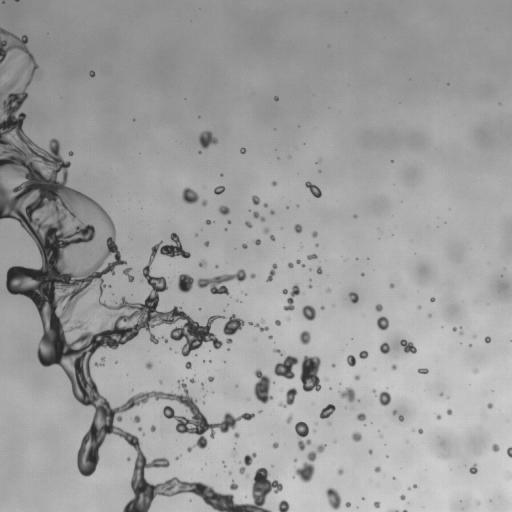droplet: (254, 368, 275, 403), (337, 386, 360, 403), (198, 130, 218, 149), (176, 272, 194, 293), (325, 487, 341, 510), (319, 404, 335, 426), (181, 187, 199, 204), (302, 304, 316, 321), (400, 339, 417, 353), (376, 316, 389, 331), (122, 267, 134, 283), (299, 330, 311, 345), (379, 342, 390, 354), (346, 354, 356, 367), (94, 356, 105, 367), (351, 431, 362, 442), (278, 500, 289, 511), (196, 122, 207, 133), (39, 140, 50, 151), (196, 188, 207, 199), (202, 188, 213, 199), (216, 194, 227, 205), (264, 216, 275, 227), (7, 217, 18, 228), (232, 218, 243, 229), (250, 227, 261, 238), (31, 258, 42, 269), (132, 267, 143, 278), (203, 268, 214, 279), (189, 269, 200, 280), (167, 278, 178, 289), (141, 284, 152, 295), (20, 295, 31, 306), (293, 295, 304, 306), (156, 301, 167, 312), (300, 319, 311, 330), (160, 323, 171, 334), (210, 323, 221, 334), (152, 324, 163, 335), (377, 330, 388, 341), (201, 339, 212, 350), (390, 342, 401, 353), (95, 345, 106, 356), (368, 345, 379, 356), (291, 363, 302, 374), (263, 366, 274, 377), (89, 368, 100, 379), (290, 376, 301, 387), (281, 377, 292, 388), (188, 388, 199, 399), (333, 396, 344, 407), (175, 404, 186, 415), (212, 412, 223, 423), (139, 417, 150, 428), (235, 419, 246, 430), (352, 420, 363, 431), (126, 423, 137, 434), (103, 432, 114, 443), (296, 454, 307, 465), (369, 454, 380, 465), (246, 463, 257, 474), (123, 466, 134, 477), (159, 468, 170, 479), (144, 472, 155, 483), (217, 484, 228, 495), (264, 492, 275, 503), (152, 494, 163, 505), (232, 494, 243, 505), (319, 494, 330, 505), (218, 205, 230, 215), (348, 292, 358, 303), (358, 349, 368, 360), (213, 186, 225, 195), (229, 479, 238, 490), (469, 462, 477, 474), (251, 195, 260, 205), (356, 412, 366, 421), (491, 443, 500, 452), (59, 151, 68, 160), (260, 234, 269, 243), (309, 258, 318, 267), (101, 292, 110, 301), (277, 310, 286, 319), (175, 318, 184, 327), (268, 324, 277, 333), (217, 332, 226, 341), (461, 334, 470, 343), (265, 340, 274, 349), (184, 368, 193, 377), (315, 368, 324, 377), (267, 371, 276, 380), (349, 380, 358, 389), (278, 392, 287, 401), (85, 404, 94, 413), (130, 405, 139, 414), (199, 406, 208, 415), (183, 409, 192, 418), (498, 444, 507, 453), (96, 447, 105, 456), (128, 448, 137, 457), (311, 459, 320, 468), (310, 471, 319, 480), (191, 474, 200, 483), (200, 476, 209, 485), (126, 490, 135, 499), (193, 494, 202, 503), (245, 496, 254, 505), (396, 500, 405, 509), (306, 253, 317, 260), (417, 368, 428, 375), (294, 224, 302, 233), (198, 259, 207, 267), (285, 413, 292, 423), (204, 505, 215, 511), (336, 505, 347, 511), (244, 220, 252, 228), (145, 361, 153, 369), (132, 415, 140, 423), (252, 238, 261, 245), (504, 471, 511, 480), (205, 219, 215, 225), (262, 227, 270, 234), (375, 304, 383, 311), (0, 76, 5, 87), (0, 273, 5, 284), (484, 336, 491, 343), (486, 402, 493, 409), (373, 501, 380, 508), (5, 50, 12, 57), (19, 51, 26, 58), (21, 120, 28, 127), (195, 142, 202, 149), (207, 142, 214, 149), (64, 180, 71, 187), (189, 183, 196, 190), (176, 190, 183, 197), (197, 193, 204, 200), (193, 200, 200, 207), (223, 200, 230, 207), (183, 201, 190, 208), (252, 204, 259, 211), (222, 213, 229, 220), (248, 216, 255, 223), (262, 220, 269, 227), (114, 239, 121, 246), (247, 241, 254, 248), (181, 244, 188, 251), (163, 254, 170, 261), (175, 254, 182, 261), (300, 256, 307, 263), (304, 259, 311, 266), (114, 264, 121, 271), (230, 267, 237, 274), (148, 269, 155, 276), (214, 269, 221, 276), (243, 276, 250, 283), (223, 280, 230, 287), (190, 281, 197, 288), (179, 290, 186, 297), (292, 294, 299, 301), (344, 295, 351, 302), (126, 296, 133, 303), (312, 303, 319, 310), (155, 304, 162, 311), (183, 307, 190, 314), (314, 308, 321, 315), (375, 310, 382, 317), (224, 311, 231, 318), (199, 319, 206, 326), (268, 321, 275, 328), (138, 327, 145, 334), (294, 329, 301, 336), (308, 330, 315, 337), (293, 334, 300, 341), (179, 337, 186, 344), (308, 337, 315, 344), (221, 341, 228, 348), (306, 350, 313, 357), (277, 356, 284, 363), (296, 356, 303, 363), (33, 358, 40, 365), (51, 362, 58, 369), (278, 375, 285, 382), (252, 376, 259, 383), (204, 381, 211, 388), (186, 382, 193, 389), (154, 384, 161, 391), (339, 384, 346, 391), (96, 385, 103, 392), (144, 385, 151, 392), (162, 386, 169, 393), (132, 388, 139, 395), (177, 388, 184, 395), (266, 388, 273, 395), (353, 391, 360, 398), (249, 392, 256, 399), (147, 396, 154, 403), (341, 396, 348, 403), (255, 399, 262, 406), (195, 400, 202, 407), (109, 401, 116, 408), (386, 402, 393, 409), (231, 411, 238, 418), (440, 411, 447, 418), (170, 418, 177, 425), (290, 418, 297, 425), (112, 419, 119, 426), (83, 424, 90, 431), (143, 425, 150, 432), (213, 426, 220, 433), (202, 430, 209, 437), (192, 433, 199, 440), (119, 437, 126, 444), (138, 442, 145, 449), (193, 445, 200, 452), (304, 445, 311, 452), (315, 452, 322, 459), (167, 456, 174, 463), (296, 461, 303, 468), (94, 463, 101, 470), (91, 470, 98, 477), (266, 474, 273, 481), (294, 474, 301, 481), (247, 477, 254, 484), (302, 480, 309, 487), (331, 483, 338, 490), (404, 490, 411, 497), (119, 500, 126, 507), (338, 500, 345, 507), (316, 266, 322, 274), (185, 361, 191, 369), (200, 382, 206, 390), (150, 424, 156, 432), (272, 441, 278, 449), (270, 506, 279, 511), (89, 70, 95, 77), (240, 147, 246, 154), (67, 150, 73, 157), (201, 199, 207, 206), (269, 234, 275, 241), (353, 374, 360, 380), (446, 408, 452, 415), (374, 466, 381, 472), (337, 468, 343, 475), (287, 262, 293, 268), (325, 287, 331, 293), (275, 319, 281, 325), (226, 338, 232, 344), (391, 364, 397, 370), (435, 414, 441, 420), (233, 432, 239, 438), (312, 230, 317, 237), (207, 376, 214, 381), (271, 181, 277, 186), (242, 243, 247, 249), (249, 273, 255, 278), (418, 428, 423, 434), (400, 494, 405, 500), (345, 501, 350, 507), (146, 507, 153, 511), (328, 507, 335, 511), (372, 507, 379, 511), (263, 202, 268, 207), (204, 241, 209, 246), (389, 283, 394, 288), (430, 297, 435, 302), (427, 313, 432, 318), (285, 316, 290, 321), (452, 326, 457, 331), (473, 368, 478, 373), (3, 25, 8, 30), (24, 42, 29, 47), (28, 48, 33, 53), (32, 53, 37, 58), (35, 59, 40, 64), (206, 126, 211, 131), (211, 132, 216, 137), (315, 163, 320, 168), (66, 166, 71, 171), (310, 179, 315, 184), (266, 180, 271, 185), (215, 181, 220, 186), (271, 185, 276, 190), (318, 185, 323, 190), (209, 186, 214, 191), (304, 186, 309, 191), (79, 188, 84, 193), (320, 189, 325, 194), (86, 192, 91, 197), (308, 193, 313, 198), (91, 195, 96, 200), (316, 196, 321, 201), (248, 200, 253, 205), (258, 200, 263, 205), (205, 202, 210, 207), (102, 205, 107, 210), (228, 206, 233, 211), (265, 206, 270, 211), (108, 212, 113, 217), (1, 217, 6, 222), (296, 219, 301, 224), (113, 222, 118, 227), (225, 223, 230, 228), (243, 225, 248, 230), (300, 226, 305, 231), (195, 228, 200, 233), (290, 228, 295, 233), (268, 229, 273, 234), (316, 232, 321, 237), (273, 233, 278, 238), (312, 237, 317, 242), (150, 241, 155, 246), (171, 241, 176, 246), (116, 245, 121, 250), (147, 248, 152, 253), (308, 249, 313, 254), (119, 255, 124, 260), (310, 257, 315, 262), (291, 259, 296, 264), (283, 260, 288, 265), (142, 261, 147, 266), (238, 264, 243, 269), (267, 265, 272, 270), (312, 265, 317, 270), (302, 266, 307, 271), (320, 266, 325, 271), (106, 270, 111, 275), (128, 270, 133, 275), (264, 271, 269, 276), (245, 272, 250, 277), (100, 273, 105, 278), (123, 274, 128, 279), (271, 274, 276, 279), (142, 277, 147, 282), (232, 277, 237, 282), (240, 279, 245, 284), (221, 280, 226, 285), (393, 283, 398, 288), (298, 286, 303, 291), (102, 287, 107, 292), (287, 287, 292, 292), (353, 288, 358, 293), (214, 292, 219, 297), (220, 292, 225, 297), (285, 292, 290, 297), (357, 296, 362, 301), (116, 298, 121, 303), (375, 299, 380, 304), (105, 300, 110, 305), (305, 300, 310, 305), (110, 301, 115, 306), (283, 301, 288, 306), (381, 303, 386, 308), (370, 305, 375, 310), (286, 309, 291, 314), (234, 313, 239, 318), (278, 316, 283, 321), (301, 316, 306, 321), (223, 317, 228, 322), (387, 320, 392, 325), (37, 321, 42, 326), (259, 322, 264, 327), (170, 323, 175, 328), (373, 323, 378, 328), (386, 325, 391, 330), (254, 326, 259, 331), (208, 327, 213, 332), (235, 328, 240, 333), (377, 328, 382, 333), (382, 328, 387, 333), (38, 331, 43, 336), (227, 333, 232, 338), (131, 336, 136, 341), (167, 337, 172, 342), (405, 337, 410, 342), (158, 338, 163, 343), (127, 339, 132, 344), (377, 340, 382, 345), (387, 341, 392, 346), (164, 342, 169, 347), (412, 342, 417, 347), (117, 343, 122, 348), (399, 345, 404, 350), (358, 346, 363, 351), (189, 349, 194, 354), (376, 349, 381, 354), (407, 351, 412, 356), (290, 352, 295, 357), (380, 352, 385, 357), (354, 355, 359, 360), (143, 358, 148, 363), (103, 359, 108, 364), (150, 359, 155, 364), (392, 359, 397, 364), (88, 361, 93, 366), (343, 361, 348, 366), (140, 362, 145, 367), (270, 363, 275, 368), (386, 363, 391, 368), (395, 363, 400, 368), (420, 363, 425, 368), (150, 365, 155, 370), (349, 365, 354, 370), (143, 367, 148, 372), (391, 369, 396, 374), (60, 370, 65, 375), (261, 370, 266, 375), (418, 372, 423, 377), (359, 375, 364, 380), (65, 378, 70, 383), (184, 379, 189, 384), (318, 379, 323, 384), (66, 381, 71, 386), (310, 388, 315, 393), (386, 388, 391, 393), (200, 389, 205, 394), (305, 390, 310, 395), (375, 390, 380, 395), (206, 391, 211, 396), (69, 393, 74, 398), (389, 393, 394, 398), (293, 394, 298, 399), (441, 394, 446, 399), (374, 396, 379, 401), (266, 398, 271, 403), (488, 398, 493, 403), (352, 399, 357, 404), (331, 400, 336, 405), (76, 401, 81, 406), (322, 402, 327, 407), (286, 403, 291, 408), (482, 403, 487, 408), (491, 404, 496, 409), (485, 407, 490, 412), (488, 407, 493, 412), (316, 408, 321, 413), (247, 409, 252, 414), (355, 409, 360, 414), (363, 410, 368, 415), (254, 412, 259, 417), (282, 414, 287, 419), (393, 414, 398, 419), (139, 416, 144, 421), (240, 417, 245, 422), (249, 417, 254, 422), (301, 417, 306, 422), (322, 417, 327, 422), (206, 418, 211, 423), (363, 418, 368, 423), (358, 419, 363, 424), (281, 420, 286, 425), (136, 421, 141, 426), (307, 425, 312, 430), (175, 431, 180, 436), (183, 431, 188, 436), (292, 431, 297, 436), (238, 432, 243, 437), (360, 432, 365, 437), (232, 436, 237, 441), (137, 437, 142, 442), (319, 439, 324, 444), (350, 439, 355, 444), (268, 440, 273, 445), (355, 440, 360, 445), (277, 442, 282, 447), (75, 443, 80, 448), (294, 444, 299, 449), (487, 444, 492, 449), (275, 446, 280, 451), (323, 446, 328, 451), (182, 448, 187, 453), (490, 450, 495, 455), (157, 453, 162, 458), (503, 453, 508, 458), (72, 455, 77, 460), (239, 456, 244, 461), (145, 458, 150, 463), (374, 461, 379, 466), (467, 462, 472, 467), (129, 463, 134, 468), (335, 464, 340, 469), (369, 465, 374, 470), (379, 465, 384, 470), (158, 466, 163, 471), (224, 466, 229, 471), (265, 466, 270, 471), (342, 467, 347, 472), (332, 469, 337, 474), (290, 470, 295, 475), (76, 471, 81, 476), (375, 471, 380, 476), (341, 472, 346, 477), (467, 472, 472, 477), (80, 474, 85, 479), (179, 476, 184, 481), (233, 479, 238, 484), (226, 480, 231, 485), (402, 490, 407, 495), (177, 492, 182, 497), (404, 495, 409, 500), (286, 499, 291, 504), (350, 502, 355, 507), (378, 502, 383, 507), (261, 503, 266, 508), (369, 503, 374, 508), (368, 449, 372, 455), (0, 144, 3, 151), (274, 96, 278, 101), (270, 210, 274, 215), (227, 219, 231, 224), (320, 305, 324, 310), (268, 334, 272, 339), (471, 334, 476, 338), (158, 379, 162, 384), (312, 428, 316, 433), (228, 470, 232, 475), (476, 500, 480, 505), (353, 214, 357, 218), (194, 233, 198, 237), (214, 264, 218, 268), (360, 272, 364, 276), (308, 284, 312, 288), (417, 305, 421, 309), (253, 337, 257, 341), (468, 343, 472, 347), (226, 347, 230, 351), (114, 360, 118, 364), (331, 363, 335, 367), (372, 367, 376, 371), (324, 377, 328, 381), (439, 392, 443, 396), (246, 397, 250, 401), (379, 434, 383, 438), (126, 457, 130, 461), (293, 458, 297, 462), (406, 501, 410, 505), (286, 508, 291, 511), (198, 150, 201, 154), (318, 169, 321, 173), (224, 227, 227, 231), (315, 243, 318, 247), (308, 268, 312, 271), (308, 278, 311, 282), (107, 284, 111, 287), (226, 303, 229, 307), (208, 360, 212, 363), (222, 360, 226, 363), (314, 422, 318, 425), (411, 428, 415, 431), (333, 439, 336, 443), (385, 454, 388, 458), (270, 464, 274, 467), (361, 497, 365, 500), (1, 0, 4, 3), (498, 102, 501, 105), (132, 118, 135, 121), (220, 173, 223, 176), (296, 204, 299, 207), (286, 206, 289, 209), (248, 209, 251, 212), (280, 226, 283, 229), (355, 257, 358, 260), (366, 257, 369, 260), (500, 274, 503, 277), (198, 307, 201, 310), (350, 337, 353, 340), (169, 347, 172, 350), (338, 382, 341, 385), (235, 384, 238, 387), (446, 396, 449, 399), (202, 401, 205, 404), (377, 429, 380, 432), (392, 476, 395, 479), (244, 495, 247, 498), (15, 1, 18, 4), (1, 3, 4, 6), (34, 68, 37, 71), (94, 71, 97, 74), (93, 75, 96, 78), (89, 76, 92, 79), (275, 93, 278, 96), (270, 95, 273, 98), (278, 97, 281, 100), (275, 100, 278, 103), (134, 116, 137, 119), (129, 118, 132, 121), (133, 120, 136, 123), (242, 144, 245, 147), (245, 147, 248, 150), (71, 148, 74, 151), (236, 149, 239, 152), (72, 152, 75, 155), (195, 152, 198, 155), (240, 153, 243, 156), (390, 156, 393, 159), (314, 158, 317, 161), (387, 159, 390, 162), (220, 170, 223, 173), (216, 173, 219, 176), (274, 178, 277, 181), (304, 178, 307, 181), (219, 182, 222, 185), (302, 183, 305, 186), (315, 183, 318, 186), (213, 184, 216, 187), (219, 192, 222, 195), (313, 196, 316, 199), (287, 203, 290, 206), (282, 205, 285, 208), (293, 205, 296, 208), (286, 208, 289, 211), (354, 211, 357, 214), (271, 214, 274, 217), (350, 216, 353, 219), (209, 218, 212, 221), (230, 219, 233, 222), (202, 220, 205, 223), (204, 223, 207, 226), (443, 223, 446, 226), (221, 228, 224, 231), (191, 233, 194, 236), (254, 236, 257, 239), (204, 238, 207, 241), (268, 238, 271, 241), (243, 240, 246, 243), (208, 242, 211, 245), (259, 242, 262, 245), (318, 243, 321, 246), (203, 245, 206, 248), (240, 247, 243, 250), (245, 247, 248, 250), (315, 252, 318, 255), (356, 254, 359, 257), (367, 254, 370, 257), (296, 256, 299, 259), (184, 257, 187, 260), (355, 259, 358, 262), (366, 259, 369, 262), (271, 260, 274, 263), (215, 261, 218, 264), (195, 263, 198, 266), (276, 263, 279, 266), (199, 266, 202, 269), (289, 267, 292, 270), (363, 271, 366, 274), (317, 273, 320, 276), (360, 275, 363, 278), (164, 277, 167, 280), (267, 280, 270, 283), (391, 280, 394, 283), (102, 281, 105, 284), (127, 281, 130, 284), (309, 281, 312, 284), (110, 283, 113, 286), (386, 283, 389, 286), (328, 285, 331, 288), (281, 286, 284, 289), (308, 287, 311, 290), (391, 287, 394, 290), (243, 289, 246, 292), (279, 290, 282, 293), (238, 297, 241, 300), (427, 298, 430, 301), (100, 299, 103, 302), (236, 301, 239, 304), (431, 301, 434, 304), (322, 303, 325, 306), (198, 304, 201, 307), (280, 306, 283, 309), (210, 312, 213, 315), (218, 312, 221, 315), (424, 313, 427, 316), (275, 316, 278, 319), (426, 317, 429, 320), (248, 318, 251, 321), (272, 318, 275, 321), (252, 321, 255, 324), (440, 327, 443, 330), (449, 327, 452, 330), (456, 327, 459, 330), (262, 329, 265, 332), (459, 334, 462, 337), (154, 335, 157, 338), (272, 335, 275, 338), (489, 335, 492, 338), (401, 336, 404, 339), (269, 338, 272, 341), (352, 338, 355, 341), (397, 339, 400, 342), (468, 340, 471, 343), (482, 340, 485, 343), (150, 341, 153, 344), (486, 342, 489, 345), (154, 343, 157, 346), (471, 343, 474, 346), (276, 346, 279, 349), (227, 350, 230, 353), (367, 351, 370, 354), (366, 355, 369, 358), (208, 356, 211, 359), (223, 357, 226, 360), (199, 359, 202, 362), (205, 359, 208, 362), (332, 360, 335, 363), (220, 361, 223, 364), (116, 362, 119, 365), (223, 362, 226, 365), (190, 364, 193, 367), (334, 364, 337, 367), (330, 366, 333, 369), (414, 368, 417, 371), (210, 373, 213, 376), (423, 373, 426, 376), (193, 377, 196, 380), (212, 379, 215, 382), (336, 379, 339, 382), (198, 384, 201, 387), (331, 386, 334, 389), (235, 387, 238, 390), (319, 387, 322, 390), (369, 387, 372, 390), (437, 390, 440, 393), (451, 410, 454, 413), (260, 411, 263, 414), (329, 413, 332, 416), (433, 414, 436, 417), (447, 414, 450, 417), (403, 416, 406, 419), (402, 419, 405, 422), (369, 423, 372, 426), (154, 428, 157, 431), (422, 428, 425, 431), (379, 430, 382, 433), (415, 430, 418, 433), (376, 431, 379, 434), (233, 444, 236, 447), (368, 446, 371, 449), (229, 447, 232, 450), (232, 450, 235, 453), (365, 450, 368, 453), (371, 450, 374, 453), (255, 452, 258, 455), (387, 452, 390, 455), (176, 453, 179, 456), (388, 455, 391, 458), (178, 456, 181, 459), (383, 456, 386, 459), (290, 457, 293, 460), (224, 461, 227, 464), (220, 463, 223, 466), (475, 465, 478, 468), (466, 468, 469, 471), (476, 470, 479, 473), (225, 471, 228, 474), (471, 473, 474, 476), (394, 474, 397, 477), (391, 479, 394, 482), (412, 481, 415, 484), (281, 483, 284, 486), (416, 483, 419, 486), (414, 487, 417, 490), (398, 492, 401, 495), (363, 495, 366, 498), (397, 496, 400, 499), (374, 498, 377, 501), (348, 499, 351, 502), (360, 499, 363, 502), (403, 506, 406, 509), (400, 507, 403, 510), (446, 83, 449, 85), (390, 160, 393, 162), (300, 246, 303, 248), (509, 339, 511, 342), (203, 360, 205, 363), (329, 387, 331, 390), (363, 424, 366, 426), (406, 440, 408, 443), (489, 499, 491, 502), (509, 336, 511, 339), (509, 341, 511, 344), (198, 116, 200, 118), (277, 157, 279, 159), (444, 221, 446, 223), (283, 246, 285, 248), (112, 293, 114, 295), (223, 309, 225, 311), (460, 342, 462, 344), (175, 351, 177, 353), (195, 354, 197, 356), (212, 391, 214, 393), (370, 421, 372, 423), (189, 499, 191, 501), (459, 500, 461, 502), (356, 506, 358, 508), (0, 0, 2, 2), (3, 0, 6, 1), (378, 238, 380, 239), (441, 326, 443, 327), (491, 390, 493, 391), (235, 442, 236, 444), (205, 462, 206, 464), (274, 341, 275, 342), (209, 350, 210, 351), (385, 444, 386, 445)
ligament: (196, 269, 246, 298), (292, 444, 327, 482), (294, 421, 312, 451), (305, 181, 321, 198), (266, 263, 277, 282), (392, 409, 404, 422), (252, 211, 265, 222), (137, 426, 145, 436), (296, 259, 305, 267), (442, 448, 449, 458), (407, 484, 418, 490), (385, 508, 407, 511), (506, 446, 511, 458), (174, 454, 182, 460), (459, 326, 463, 335), (315, 158, 322, 163), (235, 298, 242, 303), (221, 460, 226, 467), (240, 291, 247, 295), (257, 409, 263, 413), (14, 0, 19, 2), (131, 388, 133, 392), (234, 247, 235, 249)
